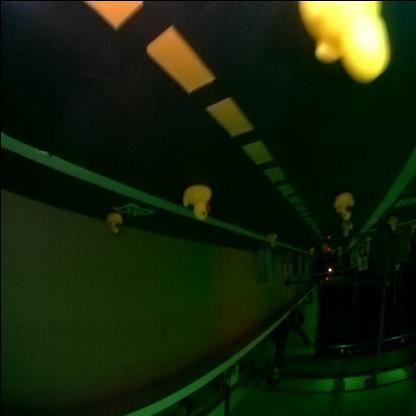Duckie: (296, 2, 388, 80), (182, 185, 210, 219), (332, 194, 354, 219), (106, 212, 120, 232)
